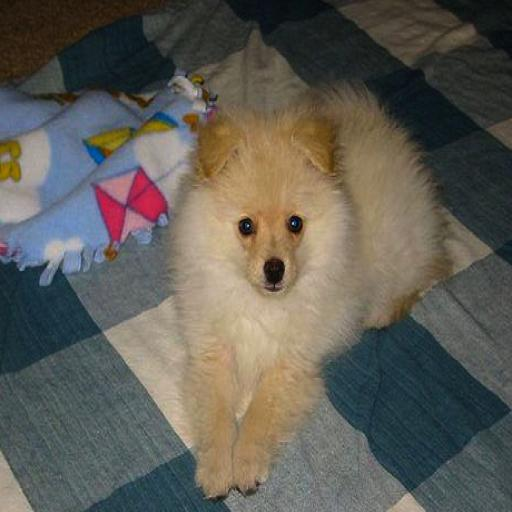dog_face: (196, 111, 339, 294)
